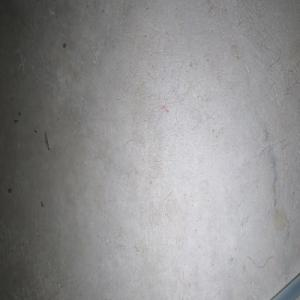Pen: (271, 273, 300, 300)
